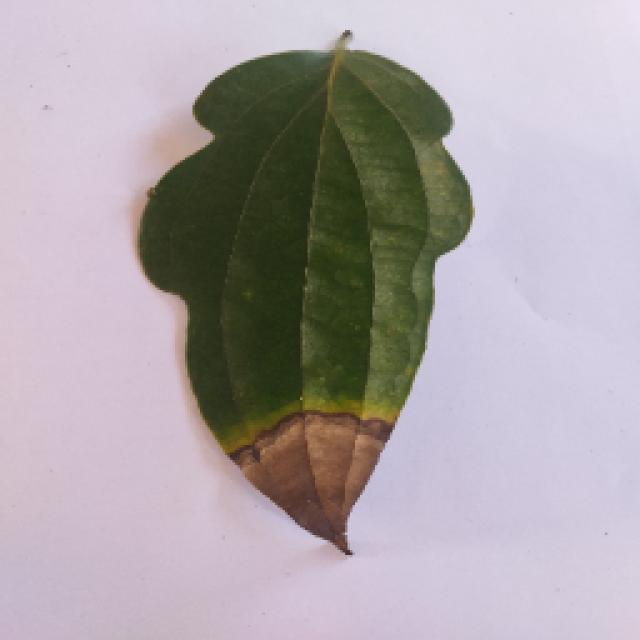footrot: (120, 35, 488, 553)
